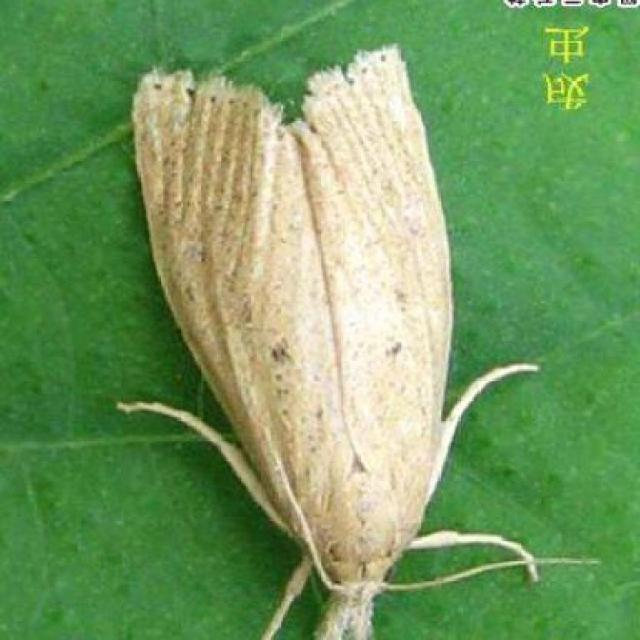stem-borer: (123, 40, 525, 640)
